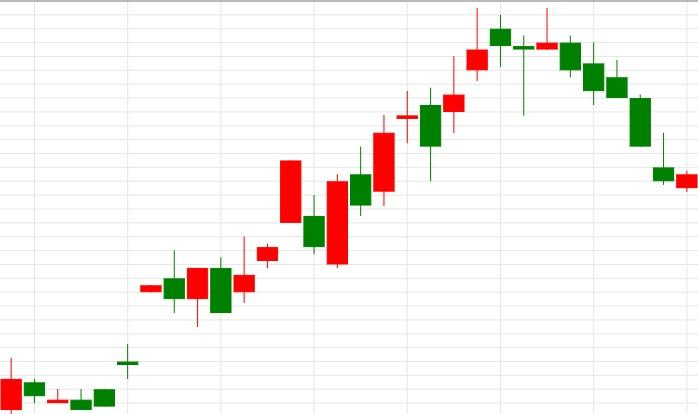shooting_star_fall: (373, 8, 488, 205)
